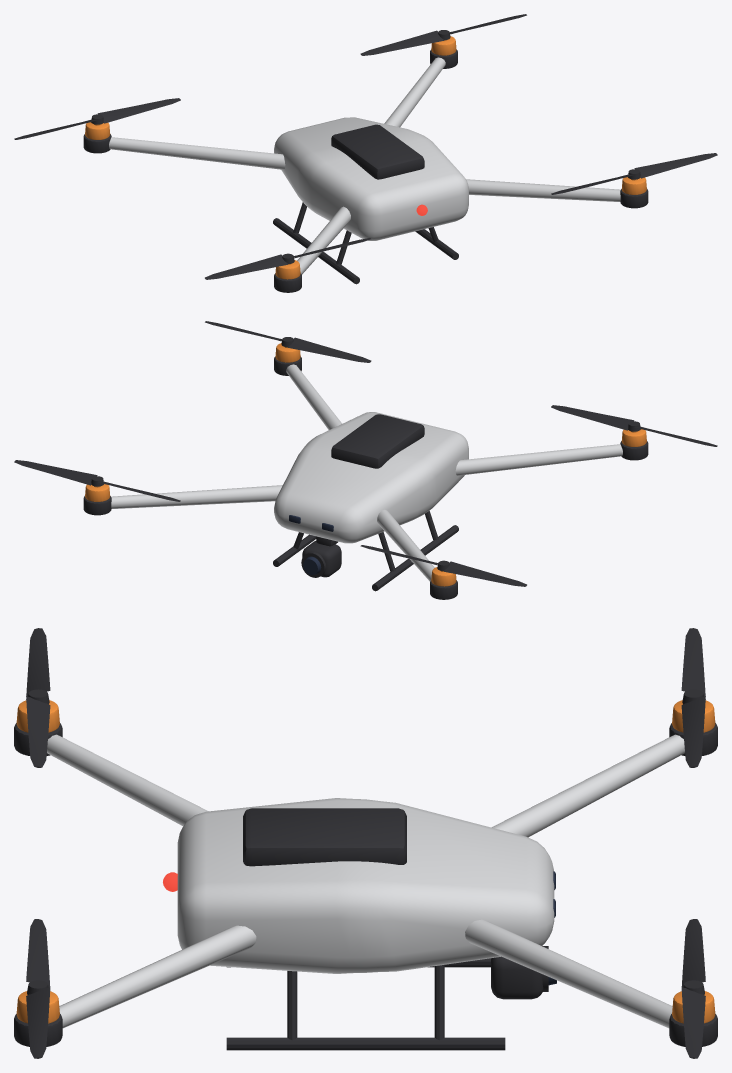
Rendered from drone.glb.
3 views of the same model, one above another, from view 1: azimuth 30°, elevation 25°; view 2: azimuth 150°, elevation 25°; view 3: azimuth 270°, elevation 25° (orthographic). The views are drawn at different scales.
Parts seen in each view (by area): view 1: Body, Battery, Arm0, Arm3, Skids, Arm1, Blade0, Blade2, Blade1, Blade3, Arm2; view 2: Body, Battery, Arm1, Arm2, Skids, Arm0, Blade2, Blade0, Blade3, Blade1, Arm3, Camera Housing; view 3: Body, Battery, Skids, Arm1, Arm3, Arm0, Arm2, Blade0, Blade2, Blade1, Blade3, Camera Housing (+2 smaller).
Part boxes in pixels (x1,y1,x2,y2): Body: [274, 117, 468, 240]; Battery: [331, 124, 424, 179]; Arm0: [109, 137, 285, 169]; Arm3: [466, 179, 620, 201]; Skids: [273, 202, 458, 284]; Arm1: [384, 57, 445, 127]; Blade0: [14, 98, 180, 139]; Blade2: [205, 238, 371, 279]; Blade1: [360, 14, 526, 55]; Blade3: [551, 153, 717, 194]; Arm2: [297, 206, 350, 274]; Body: [274, 412, 468, 543]; Battery: [331, 414, 424, 468]; Arm1: [111, 485, 282, 508]; Arm2: [455, 444, 622, 475]; Skids: [273, 511, 458, 591]; Arm0: [377, 509, 434, 581]; Blade2: [551, 405, 717, 446]; Blade0: [360, 545, 526, 586]; Blade3: [205, 321, 371, 362]; Blade1: [14, 460, 180, 501]; Arm3: [286, 364, 341, 429]; Camera Housing: [302, 541, 341, 577]; Body: [177, 798, 554, 973]; Battery: [243, 808, 406, 866]; Skids: [226, 958, 505, 1050]; Arm1: [465, 919, 672, 1028]; Arm3: [59, 925, 256, 1028]; Arm0: [491, 734, 684, 837]; Arm2: [47, 734, 207, 826]; Blade0: [681, 628, 705, 767]; Blade2: [26, 628, 50, 767]; Blade1: [681, 919, 705, 1058]; Blade3: [26, 919, 50, 1058]; Camera Housing: [491, 945, 543, 999].
Size of the model in its own units: 1.24 by 0.2455 by 0.8593.
